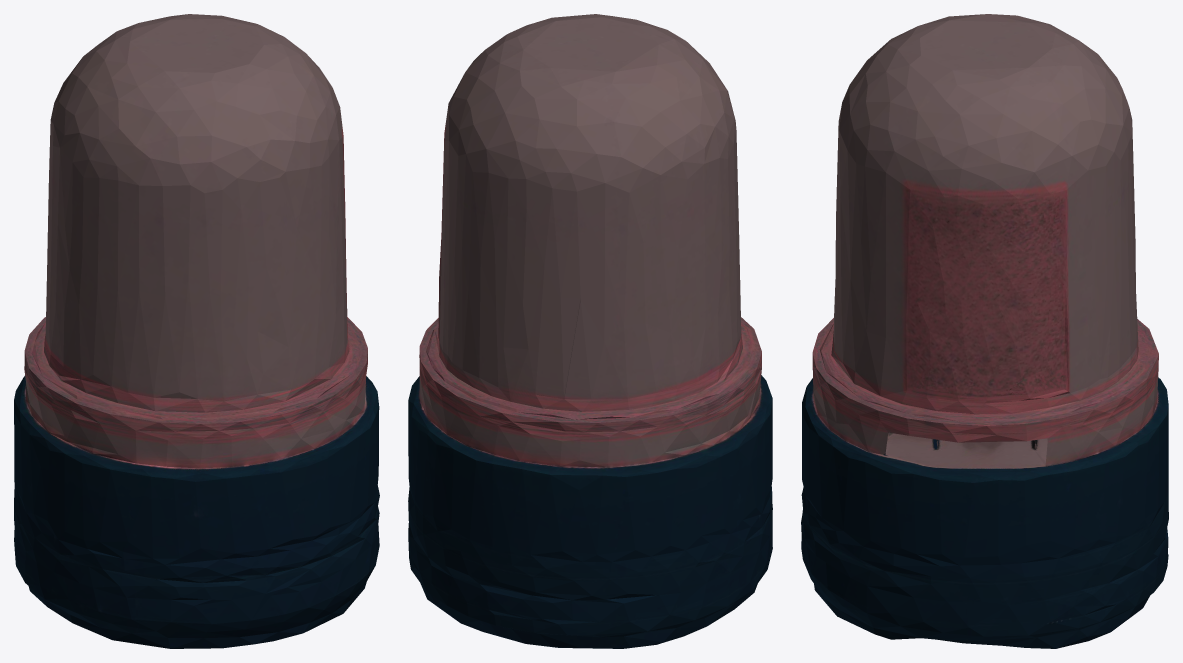
File: SM_Warning_Light.fbx
3 renders of one model, left to right at view 1: azimuth 30°, elevation 25°; view 2: azimuth 150°, elevation 25°; view 3: azimuth 270°, elevation 25°, orthographic.
Visible parts, largest first — view 1: tripo_node_79f44359; view 2: tripo_node_79f44359; view 3: tripo_node_79f44359.
Part boxes in pixels (x1,y1,x2,y2): tripo_node_79f44359: (14,14,379,648); tripo_node_79f44359: (408,14,772,648); tripo_node_79f44359: (801,14,1168,648).
Size of the model in its own units: 0.6178 by 1 by 0.6186.
1 material, 1 textured.
